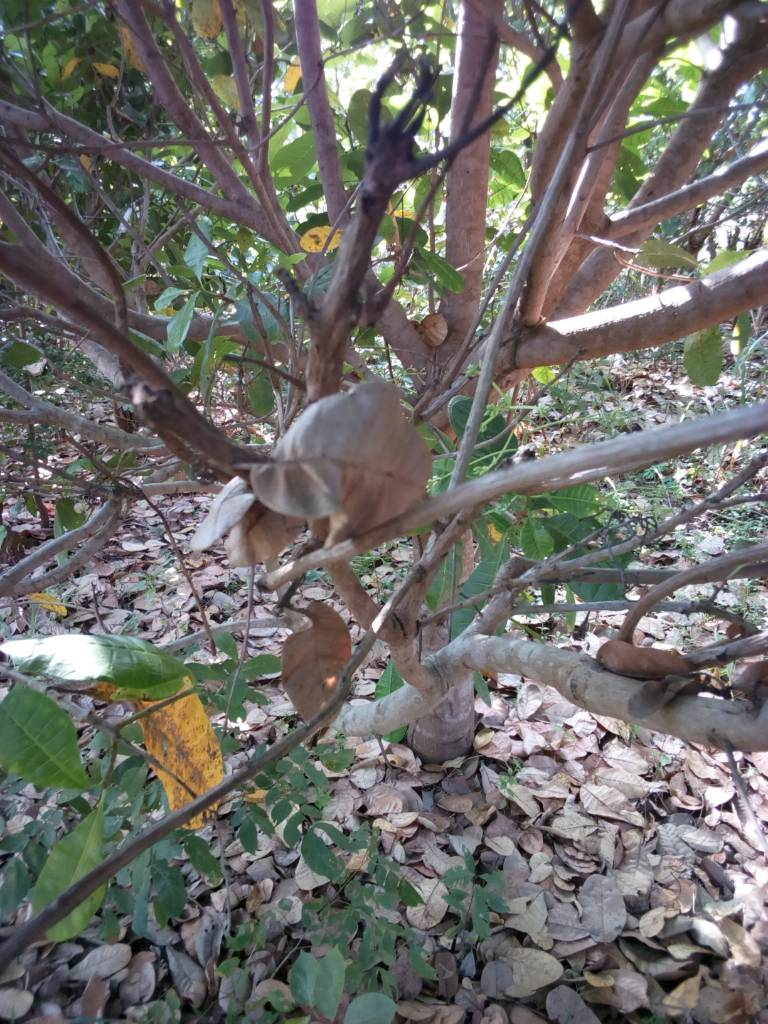Dessèchement des bourgeons: (361, 50, 521, 191)
